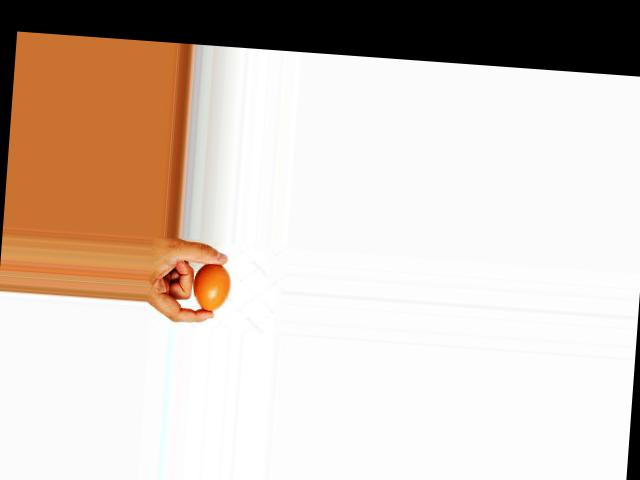egg: (191, 262, 232, 313)
